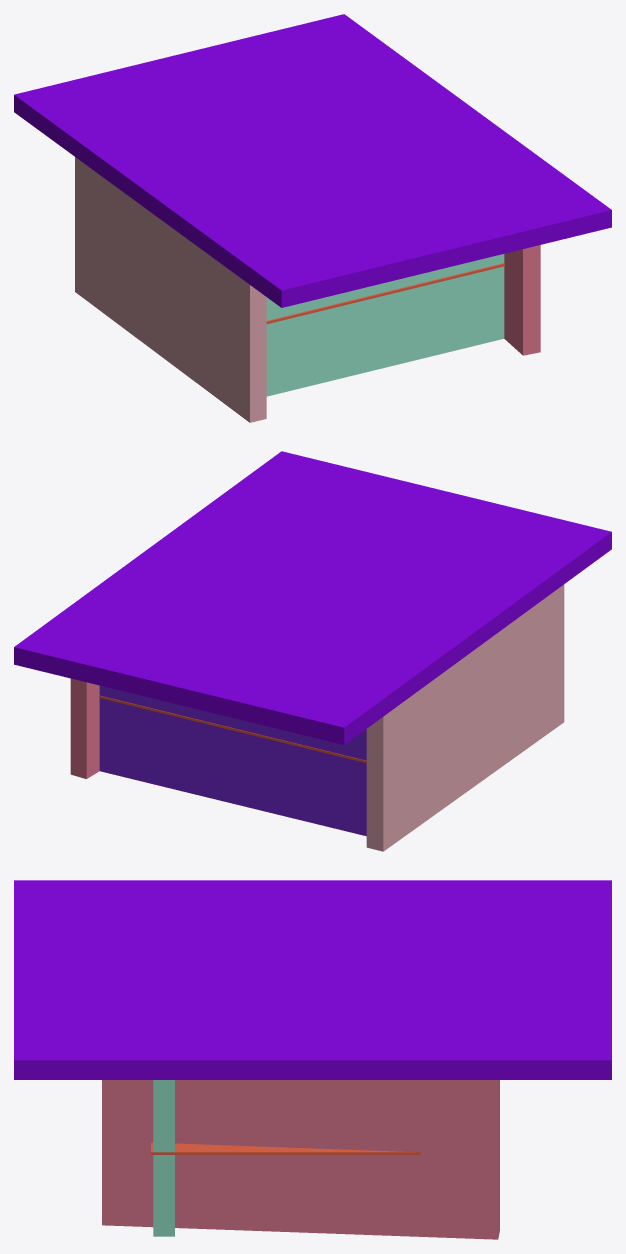
Rendered from Testroom.obj.dae.
3 renders of one model, top to bottom at view 1: azimuth 30°, elevation 25°; view 2: azimuth 150°, elevation 25°; view 3: azimuth 270°, elevation 25°, orthographic. The views are drawn at different scales.
Parts seen in each view (by area): view 1: Cube.005, Cube.003, Cube.002, Cube.004, Cube; view 2: Cube.005, Cube.003, Cube.001, Cube.004, Cube; view 3: Cube.005, Cube.004, Cube.002, Cube.
Part boxes in pixels (x1,y1,x2,y2): Cube.005: [14, 14, 611, 307]; Cube.003: [75, 157, 266, 422]; Cube.002: [266, 254, 504, 396]; Cube.004: [504, 245, 540, 355]; Cube: [266, 263, 504, 323]; Cube.005: [14, 451, 611, 744]; Cube.003: [366, 584, 564, 851]; Cube.001: [99, 685, 366, 836]; Cube.004: [70, 678, 99, 778]; Cube: [99, 695, 366, 762]; Cube.005: [14, 880, 611, 1079]; Cube.004: [102, 1080, 499, 1239]; Cube.002: [153, 1080, 174, 1236]; Cube: [151, 1142, 420, 1154].
Size of the model in its own units: 39.53 by 55.48 by 18.68.
